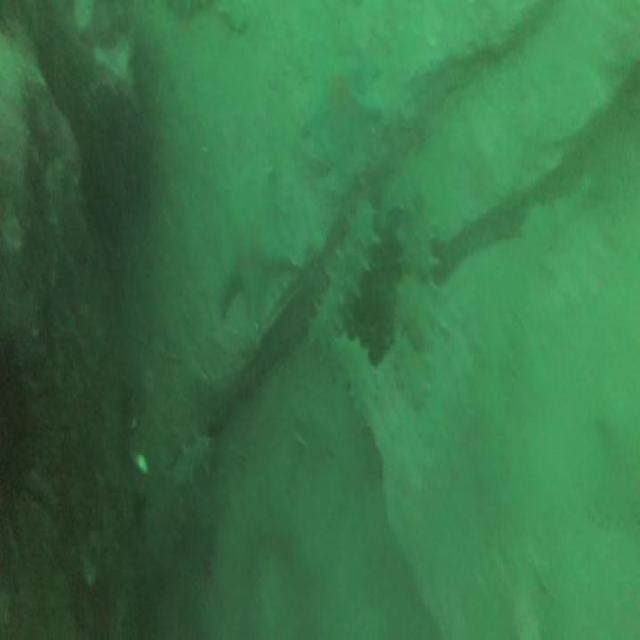echinus: (0, 335, 56, 540)
holothurian: (310, 190, 374, 354), (398, 179, 436, 417), (168, 430, 217, 479)
starfish: (301, 57, 383, 171), (217, 221, 291, 327)
